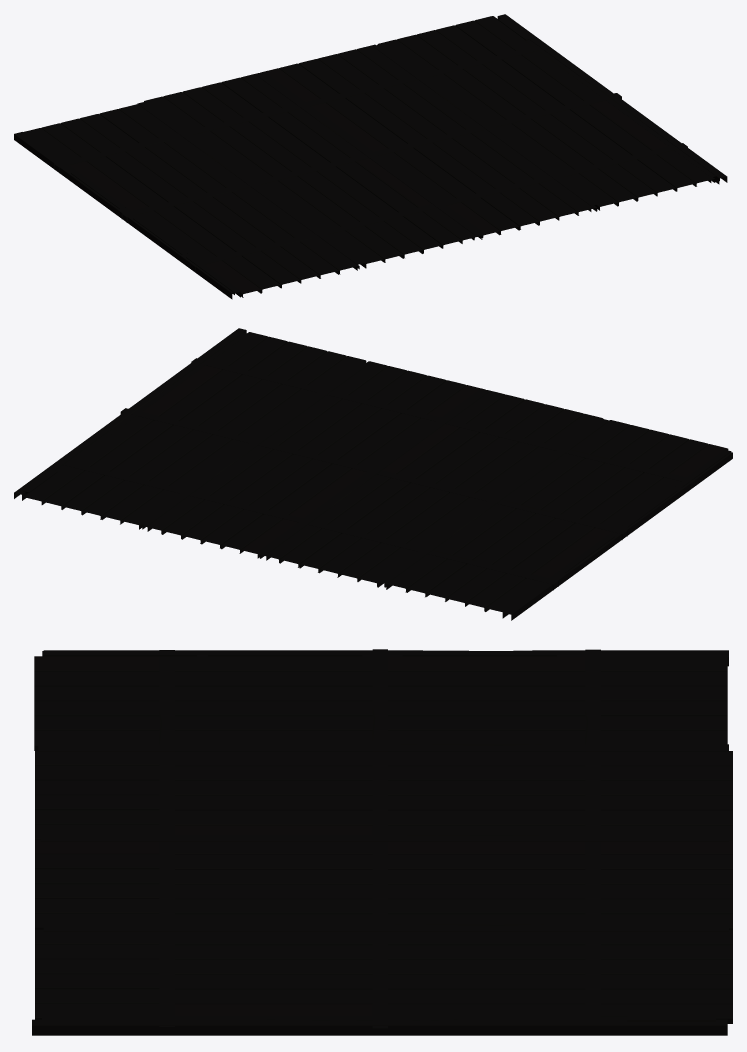
The model's file is floor.fbx.
3 views of the same model, one above another, from view 1: azimuth 30°, elevation 25°; view 2: azimuth 150°, elevation 25°; view 3: azimuth 270°, elevation 25° (orthographic). The views are drawn at different scales.
Parts seen in each view (by area): view 1: SFT_Building; view 2: SFT_Building; view 3: SFT_Building.
Boxes of the visible parts, x1,y1,x2,y2 form: SFT_Building: [14, 14, 727, 299]; SFT_Building: [14, 328, 732, 620]; SFT_Building: [32, 649, 732, 1035].
Size of the model in its own units: 660 by 8.66 by 529.
